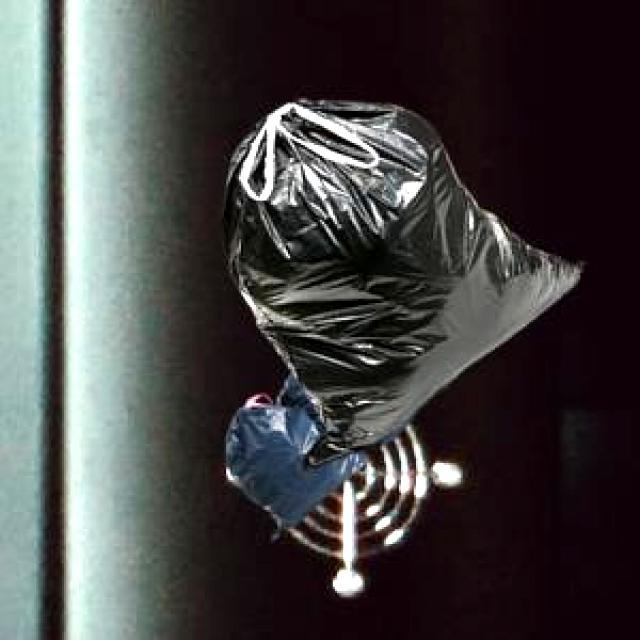Garbage_Bag: (218, 94, 580, 468), (223, 370, 417, 536)
